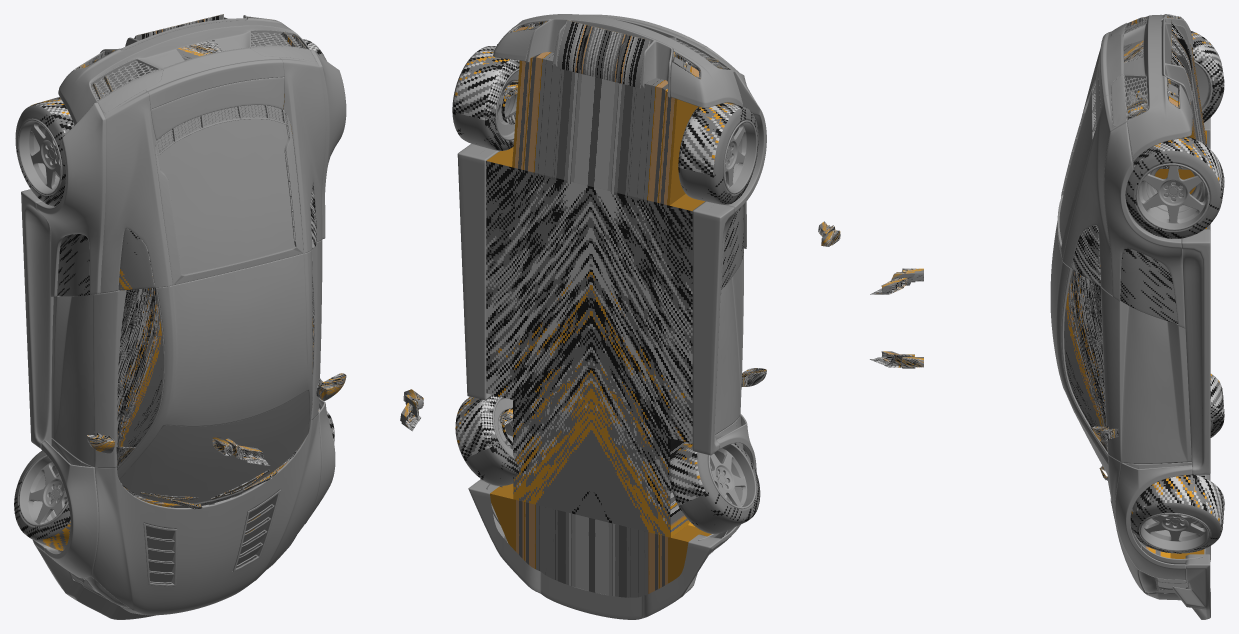
The model's file is audi-r8.glb.
3 renders of one model, left to right at view 1: azimuth 30°, elevation 25°; view 2: azimuth 150°, elevation 25°; view 3: azimuth 270°, elevation 25°, orthographic. The views are drawn at different scales.
Parts seen in each view (by area): view 1: Doors.009_body_0, custom hood_body_0, Plane_glass_0, Doors.001_body_0, Doors_body_0, Doors.014_glass_0, Doors.016_body_0, Plane.007_glass_0, Doors.018_body_0, Doors.011_body_0, Hood.003_body_0, Doors.005_body_0 (+18 smaller); view 2: Plane.011_pure black_0, Doors.018_body_0, Cylinder.003_tire_0, Cylinder.006_tire_0, Front Bumper.005_body_0, Doors.011_body_0, Plane.002_black_0, Doors_body_0, Circle.004_rim_0, Circle.003_rim_0, Doors.012_black_0, Doors.016_body_0 (+3 smaller); view 3: Doors_body_0, Doors.018_body_0, Doors.016_body_0, Cylinder.003_tire_0, Plane.007_glass_0, Doors.011_body_0, Cylinder.006_tire_0, Circle.003_rim_0, Doors.001_body_0, Hood.003_body_0, Doors.002_carbon fiber_0, Circle.004_rim_0 (+14 smaller).
Boxes of the visible parts, x1,y1,x2,y2 form: Doors.009_body_0: (117,250,312,479); custom hood_body_0: (80,414,321,615); Plane_glass_0: (158,119,294,274); Doors.001_body_0: (97,50,326,293); Doors_body_0: (51,240,322,467); Doors.014_glass_0: (119,391,309,504); Doors.016_body_0: (36,49,346,296); Plane.007_glass_0: (117,277,314,446); Doors.018_body_0: (21,189,53,448); Doors.011_body_0: (58,16,309,124); Hood.003_body_0: (41,398,335,578); Doors.005_body_0: (145,47,284,109); Plane.011_pure black_0: (486,25,734,597); Doors.018_body_0: (457,143,734,455); Cylinder.003_tire_0: (452,46,758,204); Cylinder.006_tire_0: (455,395,760,533); Front Bumper.005_body_0: (468,479,722,619); Doors.011_body_0: (493,14,742,107); Plane.002_black_0: (556,20,650,88); Doors_body_0: (714,249,743,434); Circle.004_rim_0: (492,397,756,509); Circle.003_rim_0: (495,68,757,194); Doors.012_black_0: (526,18,673,97); Doors.016_body_0: (497,44,766,294); Doors_body_0: (1100,286,1191,463); Doors.018_body_0: (1181,118,1210,474); Doors.016_body_0: (1104,23,1185,328); Cylinder.003_tire_0: (1125,31,1224,238); Plane.007_glass_0: (1064,269,1106,427); Doors.011_body_0: (1123,14,1192,161); Cylinder.006_tire_0: (1130,374,1224,553); Circle.003_rim_0: (1135,60,1212,230); Doors.001_body_0: (1062,31,1132,295); Hood.003_body_0: (1115,462,1192,580); Doors.002_carbon fiber_0: (1120,248,1177,323); Circle.004_rim_0: (1138,418,1212,551).
Size of the model in its own units: 2.31 by 4.43 by 2.53.
Materials: 1 (1 with a texture image).
